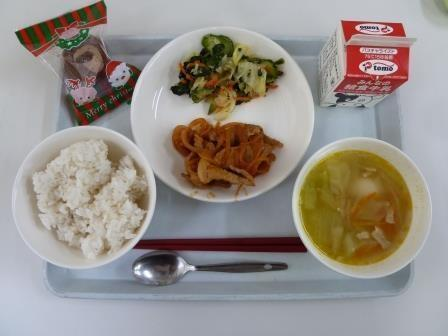Meat: (172, 116, 279, 197)
Milk: (310, 15, 415, 116)
Rice: (6, 132, 158, 261)
Soups: (294, 144, 431, 272)
salad with sauce: (170, 35, 277, 119)
